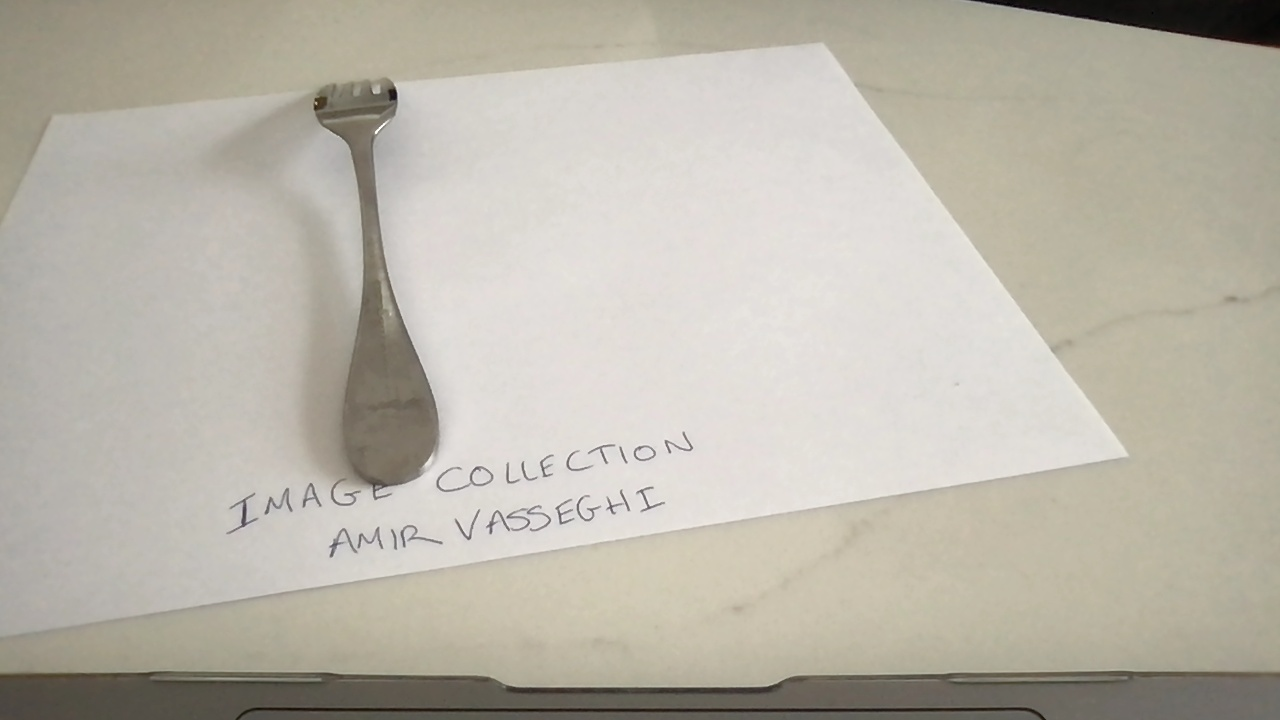fork: (312, 77, 442, 487)
